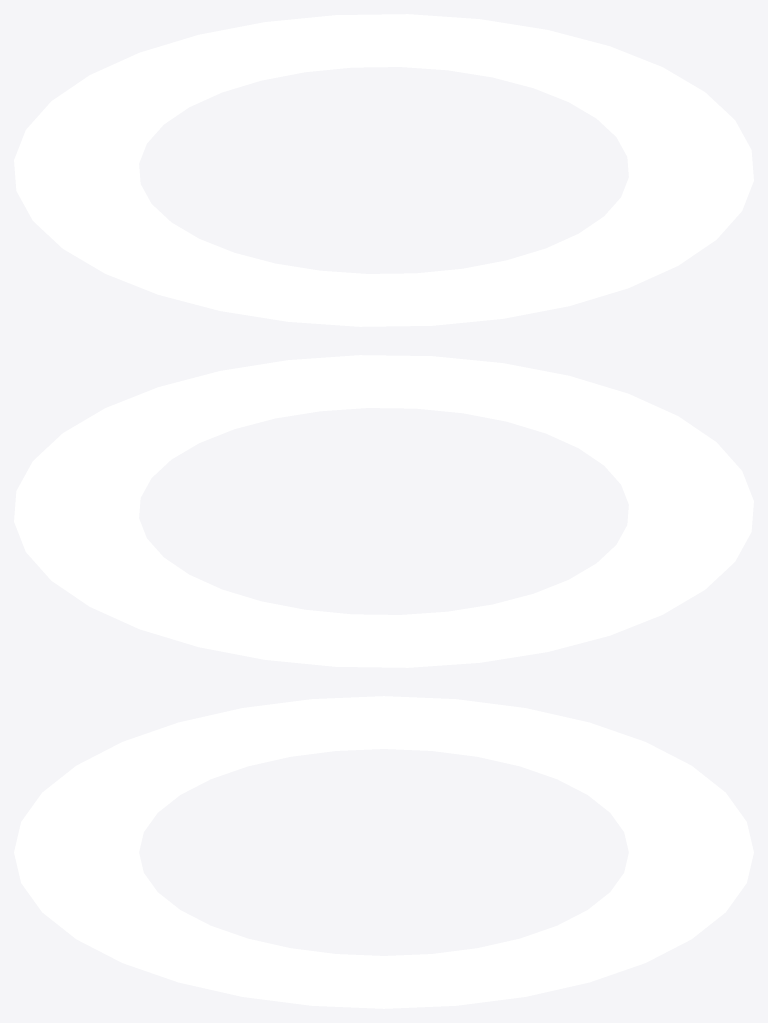
The model's file is symbols.fbx.
3 renders of one model, top to bottom at view 1: azimuth 30°, elevation 25°; view 2: azimuth 150°, elevation 25°; view 3: azimuth 270°, elevation 25°, orthographic.
Parts seen in each view (by area): view 1: руны; view 2: руны; view 3: руны.
Part boxes in pixels (x1,y1,x2,y2): руны: (14,14,753,326); руны: (14,355,753,667); руны: (14,696,753,1008).
Bounding box in the file's own units: 1.37 × 2.22e-07 × 1.37.
